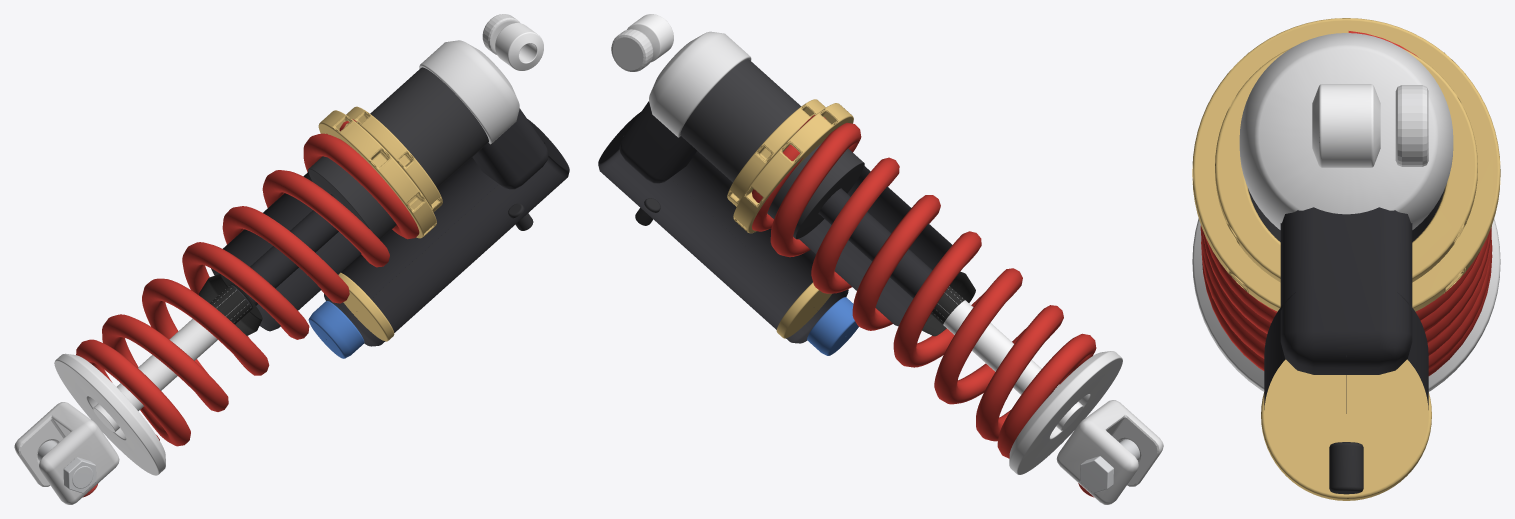
File: rear_shock.glb
The picture shows the model from 3 angles, left to right: view 1: azimuth 30°, elevation 25°; view 2: azimuth 150°, elevation 25°; view 3: azimuth 270°, elevation 25°; orthographic projection. The views are drawn at different scales.
Visible parts, largest first — view 1: rear_shock__spring, rear_shock__reservoir, rear_shock__threaded_sleeve, rear_shock__damper_body, rear_shock__lower_clevis, rear_shock__lower_spring_seat, rear_shock__top_cap, rear_shock__preload_collar, rear_shock__shaft, rear_shock__lock_ring, rear_shock__bump_stop, rear_shock__compression_adjuster (+4 smaller); view 2: rear_shock__spring, rear_shock__reservoir, rear_shock__threaded_sleeve, rear_shock__damper_body, rear_shock__lower_clevis, rear_shock__lower_spring_seat, rear_shock__top_cap, rear_shock__preload_collar, rear_shock__shaft, rear_shock__lock_ring, rear_shock__compression_adjuster, rear_shock__top_eye (+4 smaller); view 3: rear_shock__top_cap, rear_shock__reservoir, rear_shock__reservoir_ring, rear_shock__preload_collar, rear_shock__lock_ring, rear_shock__spring, rear_shock__spherical_bearing, rear_shock__lower_spring_seat, rear_shock__top_eye, rear_shock__valve_cap, rear_shock__threaded_sleeve.
Part boxes in pixels (left/top/right/bottom): rear_shock__spring: left=76, top=119, right=419, bottom=446; rear_shock__reservoir: left=324, top=108, right=569, bottom=346; rear_shock__threaded_sleeve: left=308, top=67, right=488, bottom=239; rear_shock__damper_body: left=211, top=171, right=361, bottom=331; rear_shock__lower_clevis: left=14, top=402, right=119, bottom=504; rear_shock__lower_spring_seat: left=54, top=353, right=165, bottom=475; rear_shock__top_cap: left=419, top=40, right=519, bottom=144; rear_shock__preload_collar: left=318, top=110, right=436, bottom=238; rear_shock__shaft: left=93, top=288, right=250, bottom=432; rear_shock__lock_ring: left=346, top=106, right=442, bottom=212; rear_shock__bump_stop: left=199, top=274, right=262, bottom=335; rear_shock__compression_adjuster: left=308, top=301, right=364, bottom=358; rear_shock__spring: left=752, top=115, right=1096, bottom=458; rear_shock__reservoir: left=598, top=101, right=848, bottom=343; rear_shock__threaded_sleeve: left=680, top=59, right=864, bottom=239; rear_shock__damper_body: left=798, top=165, right=951, bottom=326; rear_shock__lower_clevis: left=1056, top=400, right=1163, bottom=504; rear_shock__lower_spring_seat: left=1009, top=351, right=1122, bottom=474; rear_shock__top_cap: left=649, top=31, right=751, bottom=137; rear_shock__preload_collar: left=733, top=103, right=853, bottom=233; rear_shock__shaft: left=934, top=286, right=1083, bottom=430; rear_shock__lock_ring: left=727, top=99, right=825, bottom=206; rear_shock__compression_adjuster: left=807, top=297, right=858, bottom=355; rear_shock__top_eye: left=611, top=29, right=653, bottom=71; rear_shock__top_cap: left=1239, top=33, right=1453, bottom=229; rear_shock__reservoir: left=1264, top=207, right=1428, bottom=413; rear_shock__reservoir_ring: left=1261, top=359, right=1431, bottom=500; rear_shock__preload_collar: left=1192, top=18, right=1500, bottom=311; rear_shock__lock_ring: left=1215, top=48, right=1477, bottom=282; rear_shock__spring: left=1200, top=31, right=1492, bottom=375; rear_shock__spherical_bearing: left=1312, top=84, right=1380, bottom=167; rear_shock__lower_spring_seat: left=1192, top=218, right=1500, bottom=391; rear_shock__top_eye: left=1395, top=85, right=1428, bottom=166; rear_shock__valve_cap: left=1329, top=442, right=1363, bottom=494; rear_shock__threaded_sleeve: left=1248, top=188, right=1444, bottom=241.
Size of the model in its own units: 29.98 by 19.33 by 7.5.
